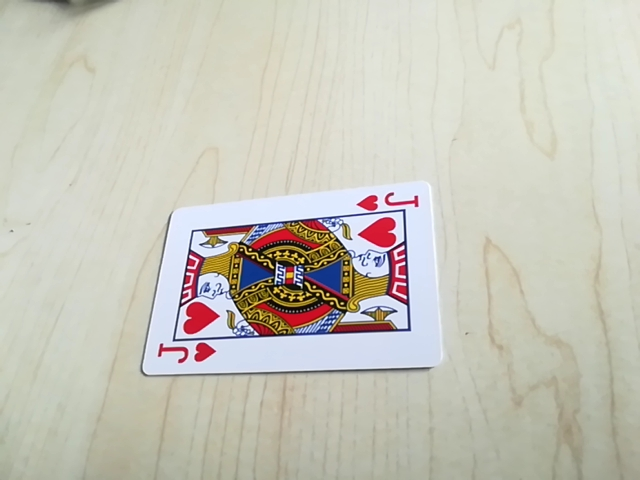hx j: (152, 339, 218, 370), (353, 188, 422, 215)
